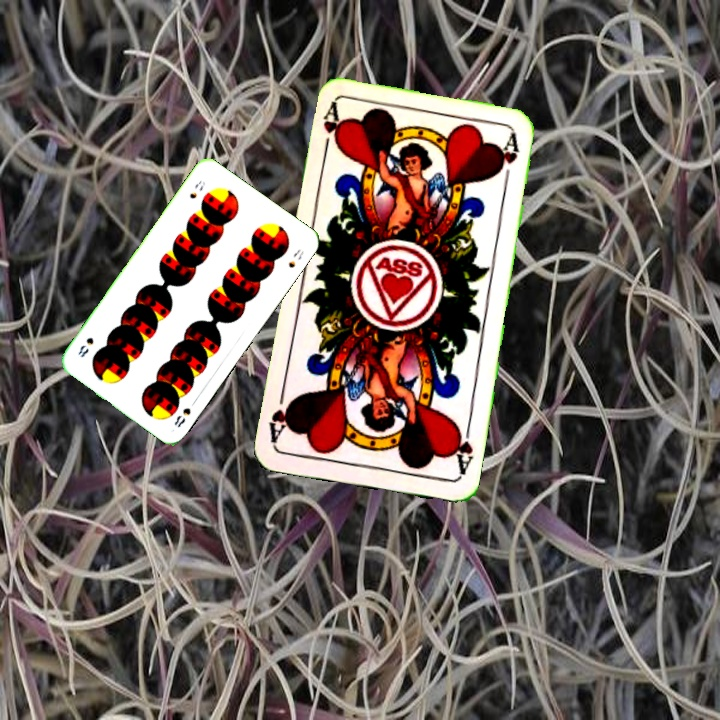HA: (448, 419, 476, 478), (319, 100, 345, 160)
S8: (170, 404, 193, 430), (185, 176, 208, 201)
